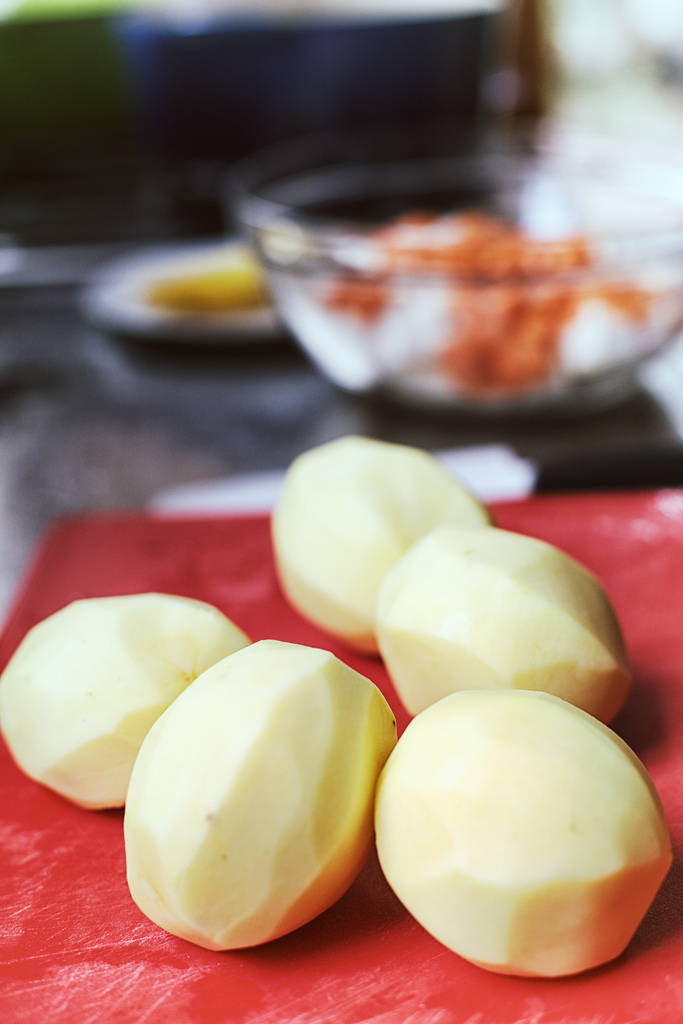boiled potatoes: (132, 653, 392, 947), (399, 674, 627, 949), (1, 601, 285, 816), (379, 516, 632, 703), (250, 446, 493, 618)
